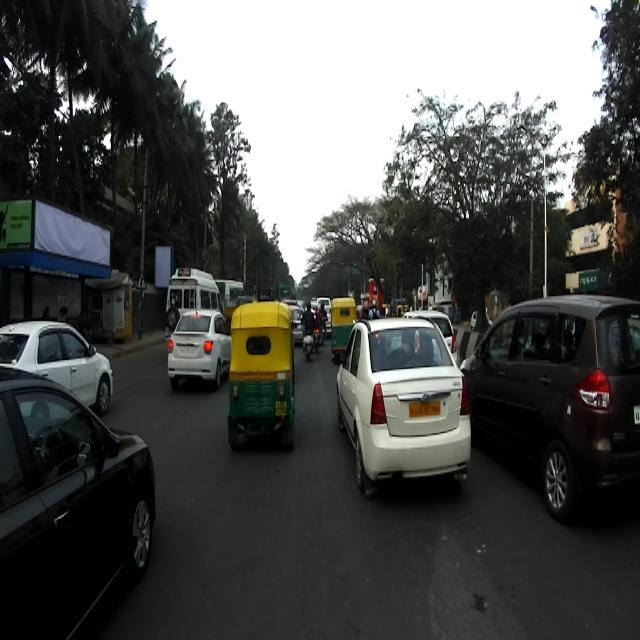auto ahead at: (230, 298, 297, 462)
car ahead at: (0, 366, 156, 636), (480, 294, 639, 526), (340, 318, 474, 496), (164, 301, 230, 396)
